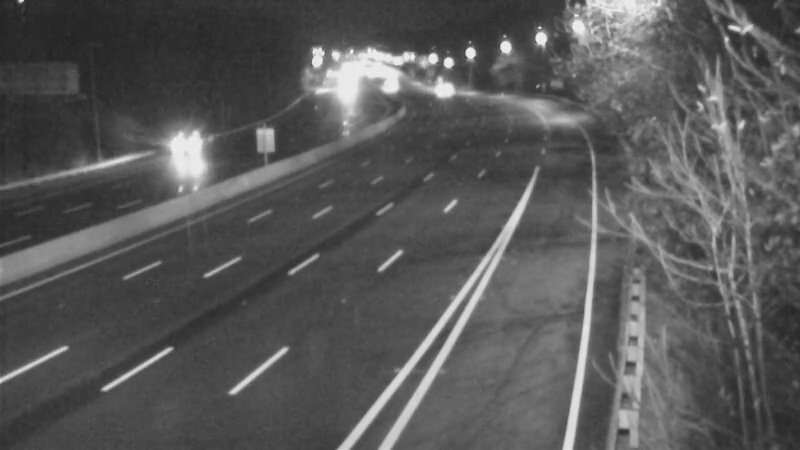vehicle: (359, 58, 409, 108), (415, 64, 465, 114), (160, 121, 210, 171)
